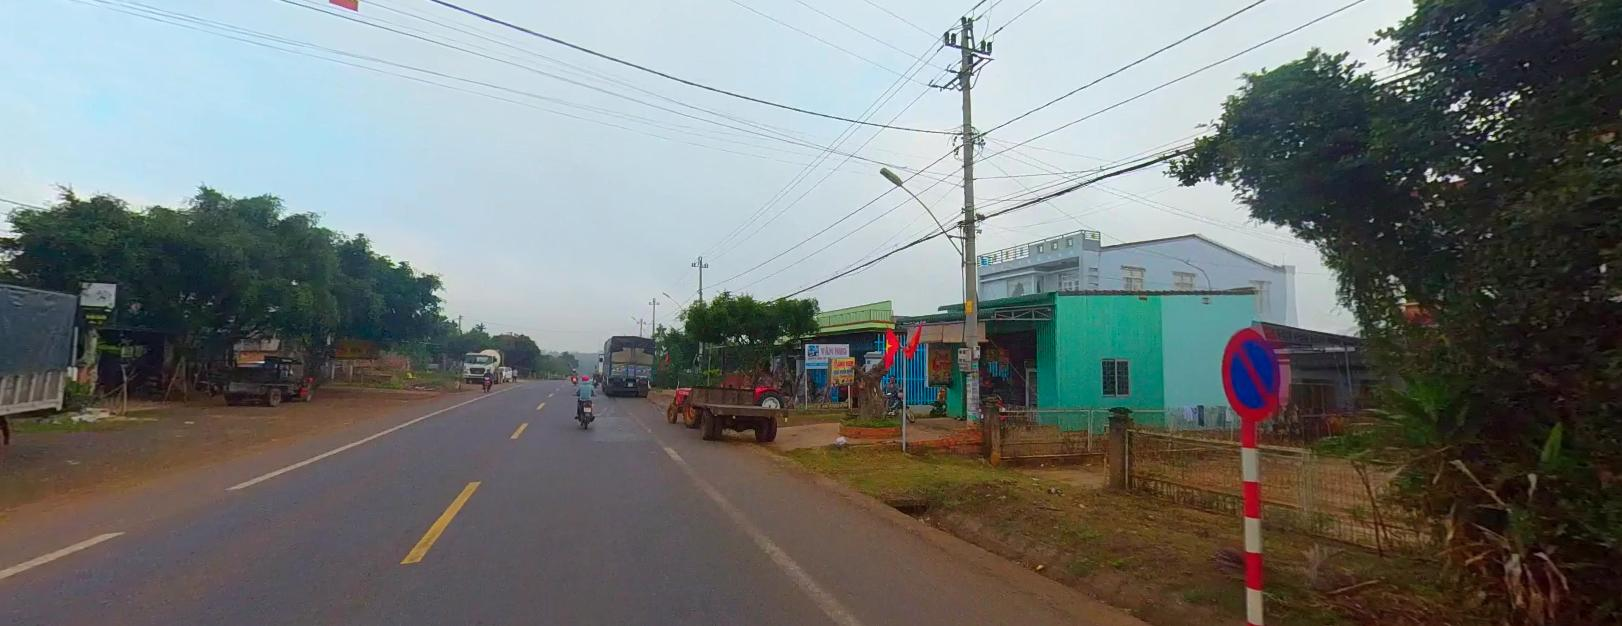Cam dung va do: (1216, 327, 1283, 422)
